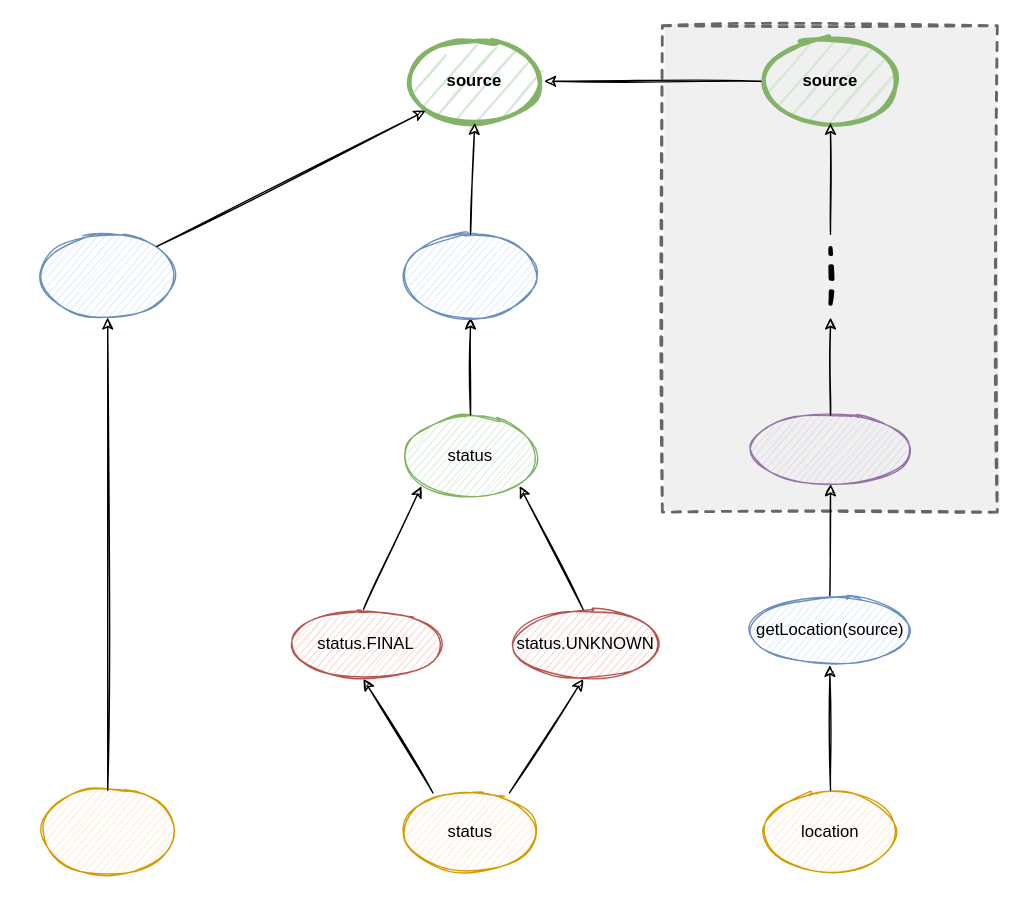
Image size: 1023x913. Some labels were removed from this diagram. Each missing label, with the box of its shape:
name: (37, 789, 177, 874)
Return Value (getLocation): (746, 414, 914, 484)
source getName(): (37, 233, 177, 318)
source getStatus(): (400, 233, 540, 318)
